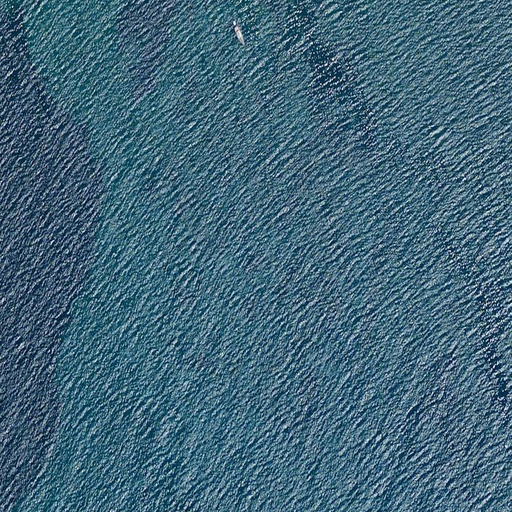ship: (232, 19, 246, 46)
